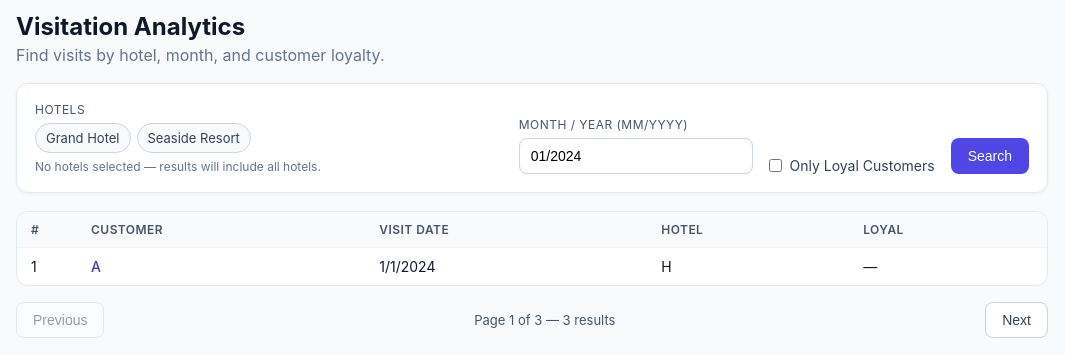
Scenario: Dashboard › pager controls switch pages and respect total count
Expected: the link "A" is shown, [91,258,101,275]
Expected: the text "Page 1 of 3 — 3 results" is shown, [474,312,615,328]
Click the button "Next" at (1017, 320), box [985,302,1048,338]
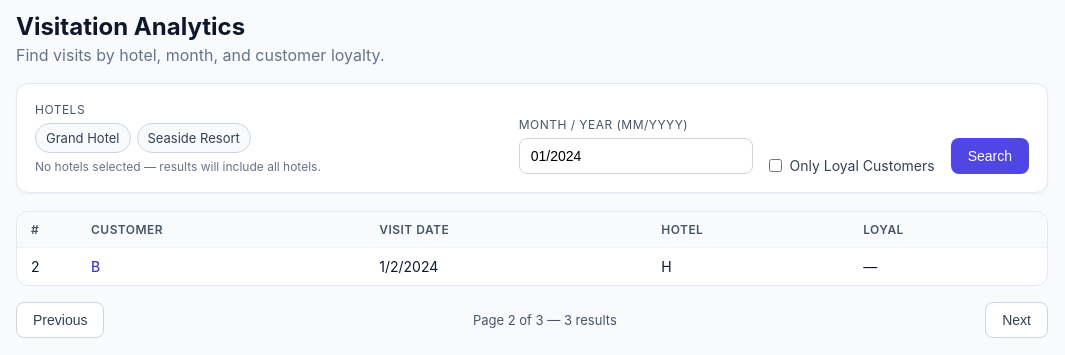
Result: the link "B" is shown at [91,258,100,275]
Result: the text "Page 2 of 3 — 3 results" is shown at [473,312,617,328]
